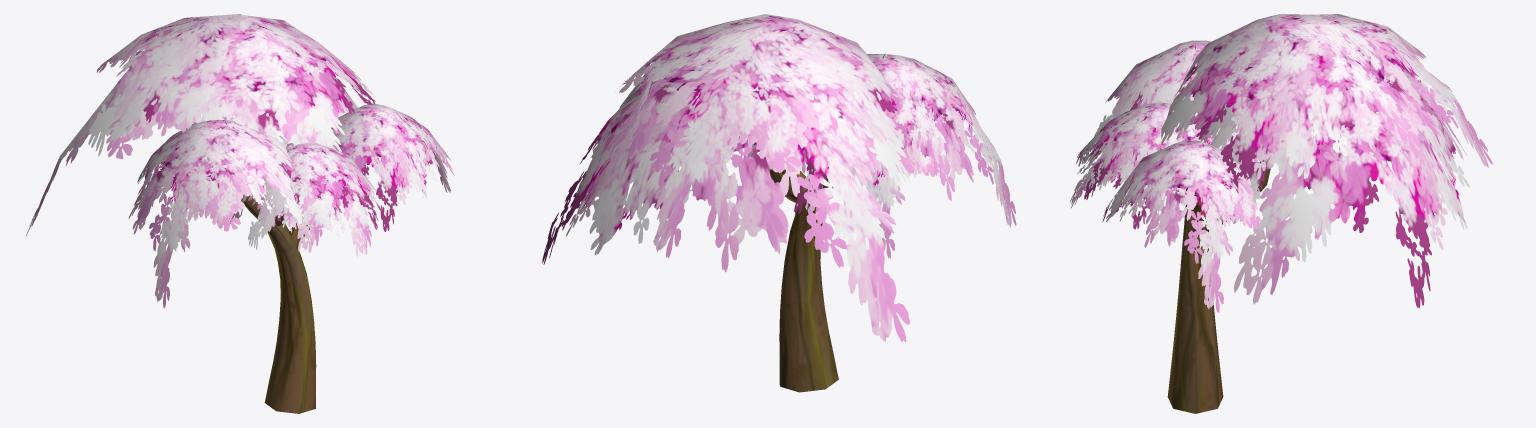
Rendered from Cherry blossom tree (1).fbx.
3 views of the same model, side by side, from view 1: azimuth 30°, elevation 25°; view 2: azimuth 150°, elevation 25°; view 3: azimuth 270°, elevation 25° (orthographic). The views are drawn at different scales.
Parts seen in each view (by area): view 1: pSphere11, New_Tree_3; view 2: pSphere11, New_Tree_3; view 3: pSphere11, New_Tree_3.
Part boxes in pixels (x1=…): pSphere11: x1=26, y1=14, x2=454, y2=308; New_Tree_3: x1=225, y1=121, x2=316, y2=413; pSphere11: x1=542, y1=14, x2=1016, y2=342; New_Tree_3: x1=769, y1=53, x2=885, y2=392; pSphere11: x1=1070, y1=14, x2=1492, y2=312; New_Tree_3: x1=1167, y1=43, x2=1270, y2=413.
Size of the model in its own units: 4.9 by 4.47 by 5.1.
